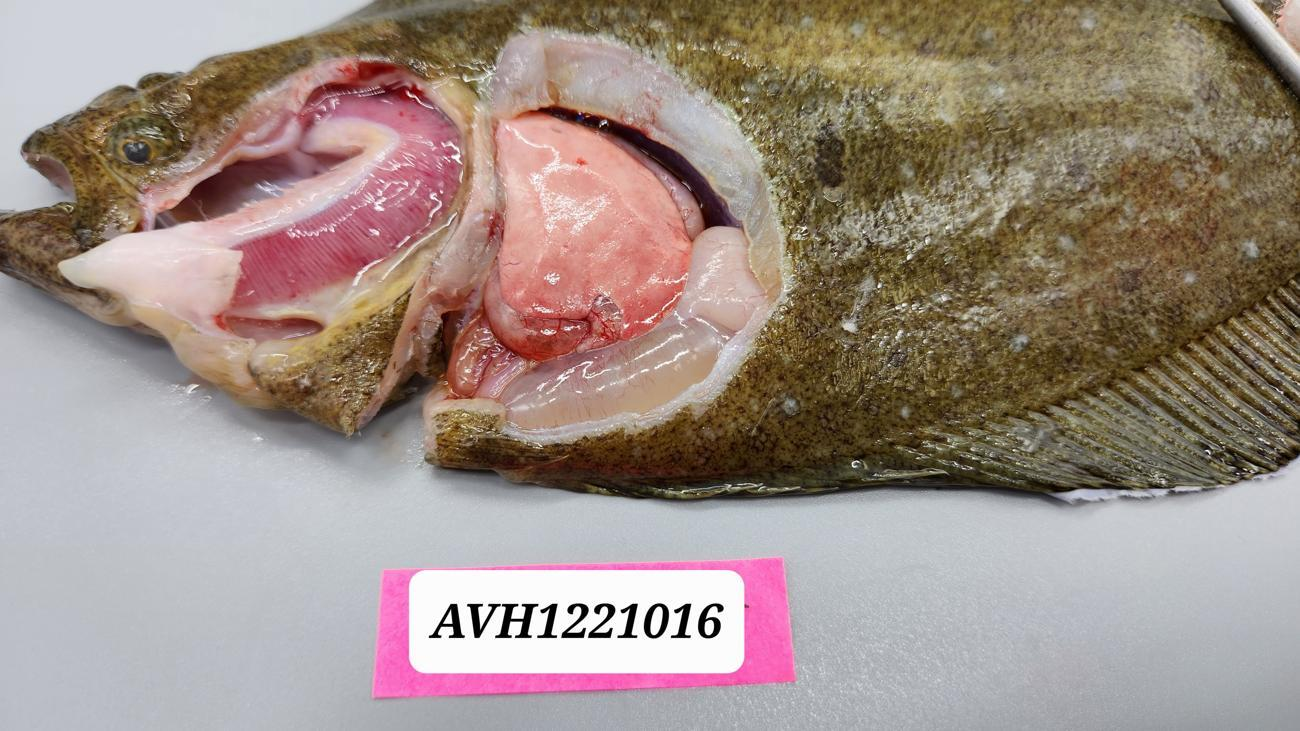VIGIP: (231, 90, 464, 306)
VILII: (515, 168, 680, 302)
